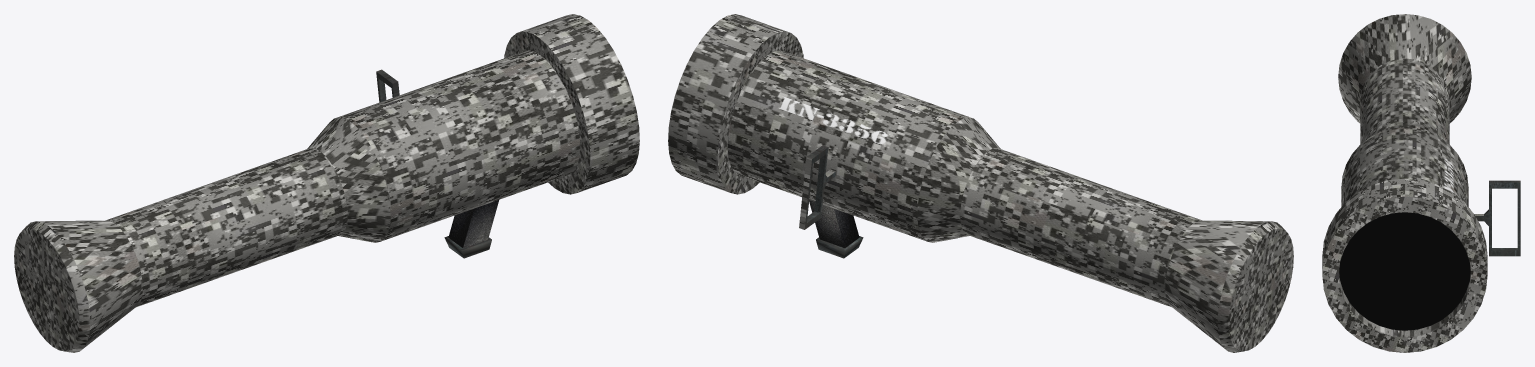
File: launcher_000004.obj
3 views of the same model, side by side, from view 1: azimuth 30°, elevation 25°; view 2: azimuth 150°, elevation 25°; view 3: azimuth 270°, elevation 25° (orthographic). The views are drawn at different scales.
Parts seen in each view (by area): view 1: Cylinder; view 2: Cylinder; view 3: Cylinder.
Part boxes in pixels (x1=…): Cylinder: x1=14, y1=14, x2=639, y2=352; Cylinder: x1=668, y1=14, x2=1293, y2=352; Cylinder: x1=1322, y1=14, x2=1520, y2=352.
Size of the model in its own units: 8.88 by 3.03 by 2.81.
Materials: 1 (1 with a texture image).
